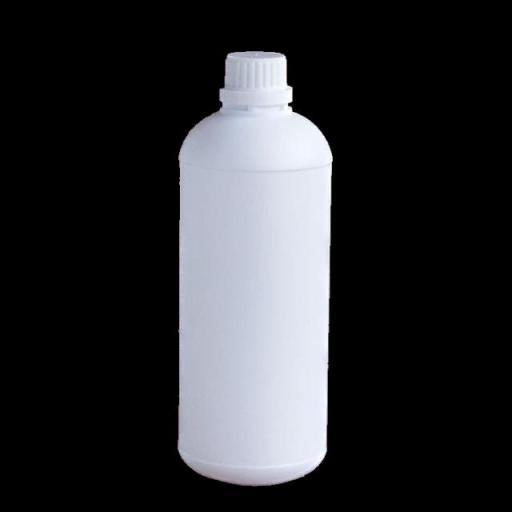plastic: (167, 43, 338, 490)
